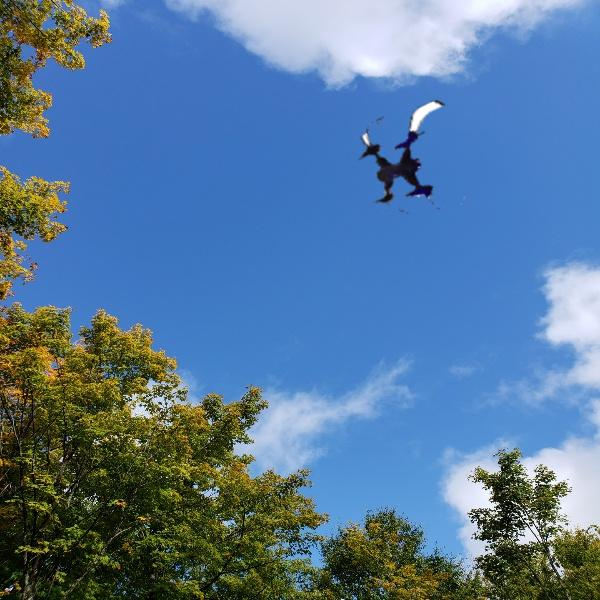drone: (352, 103, 478, 229)
